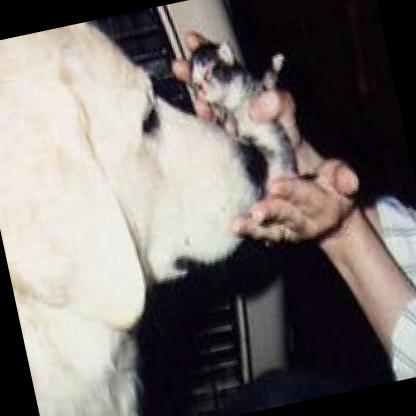kuvasz: (0, 0, 319, 416)
